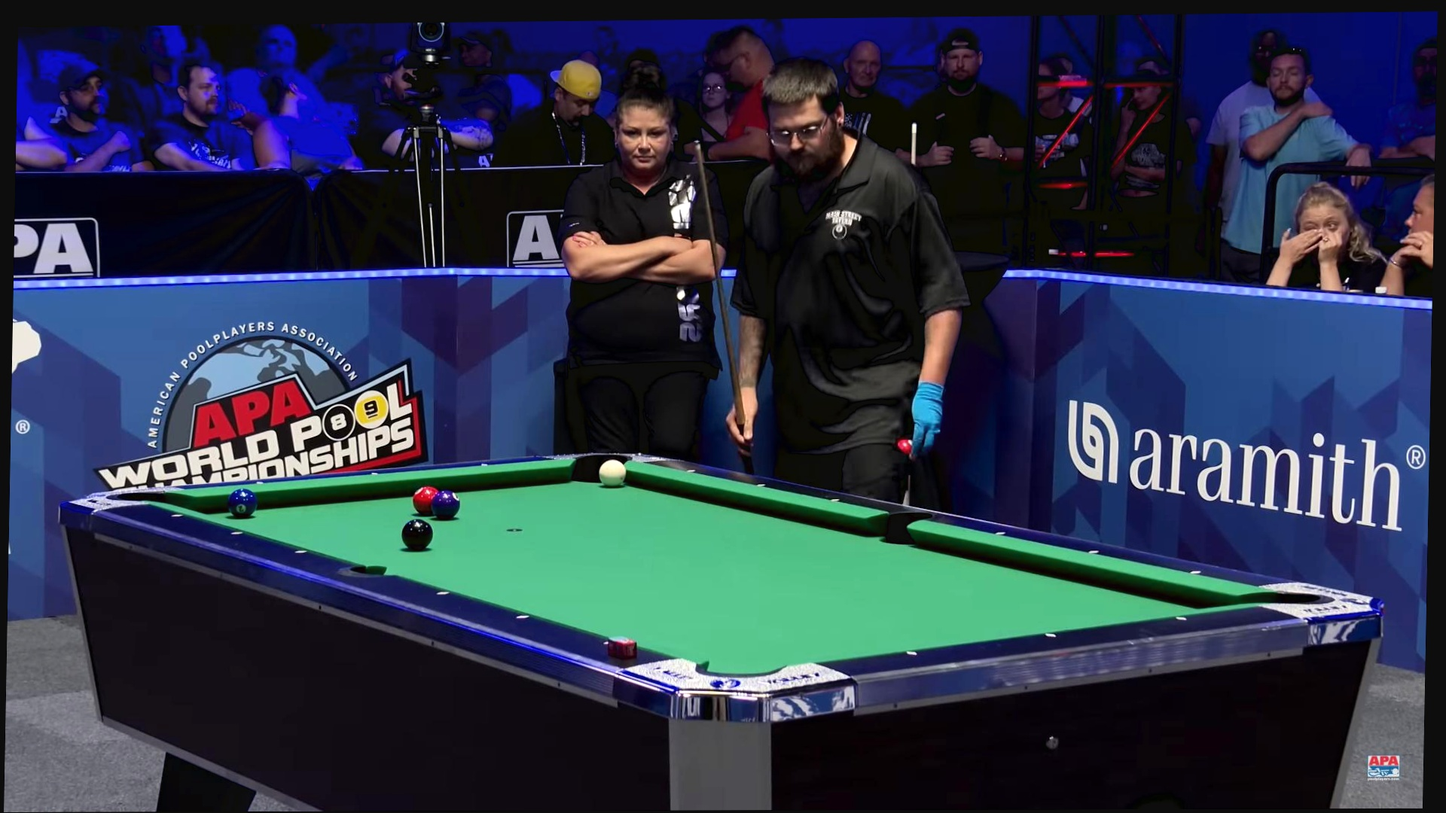Black: (434, 587, 451, 598), (251, 477, 268, 488), (477, 459, 494, 470), (1174, 612, 1191, 623), (228, 528, 244, 539), (168, 510, 184, 521), (753, 480, 769, 491), (1044, 629, 1060, 640), (904, 647, 920, 658), (514, 612, 531, 622), (684, 466, 701, 476), (827, 495, 844, 505), (600, 638, 616, 648), (293, 547, 309, 557), (367, 469, 383, 479), (992, 528, 1008, 538), (1085, 547, 1101, 557), (1187, 568, 1203, 578)
Cue: (227, 488, 258, 519), (431, 489, 460, 520), (412, 486, 439, 517)
Solid: (402, 518, 433, 551)
Stripe: (599, 459, 627, 487)
